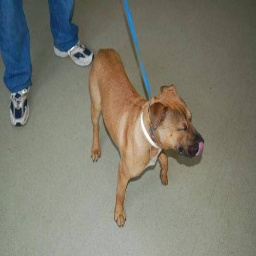dog: (87, 48, 209, 227)
